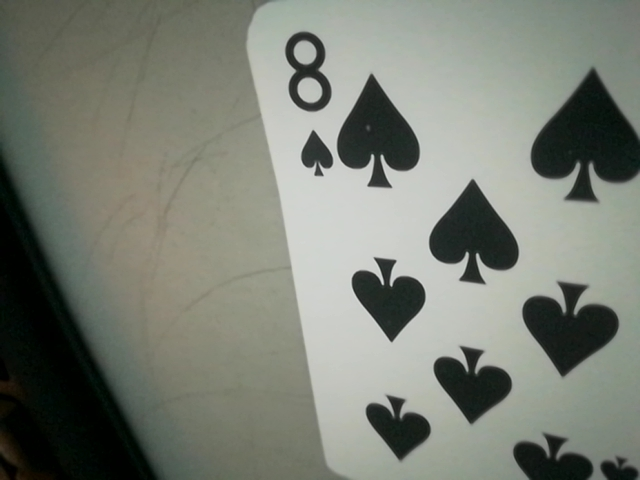ht 8: (274, 23, 350, 191)
